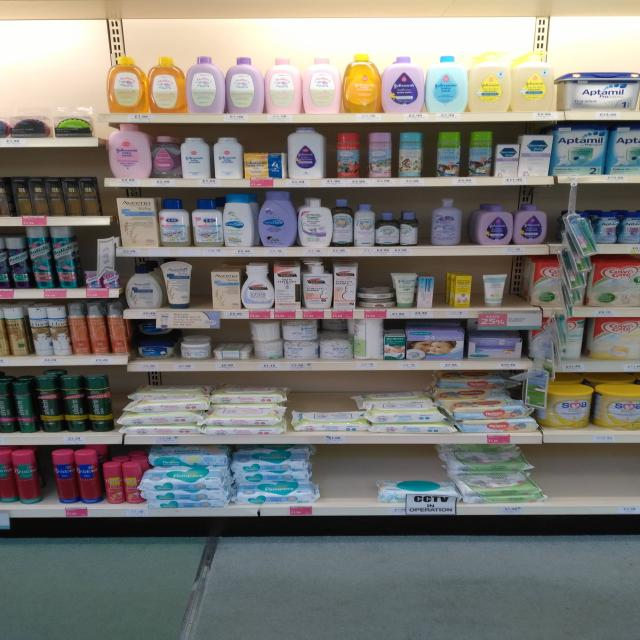unorganised: (335, 131, 427, 180), (437, 130, 493, 177), (439, 377, 513, 400), (433, 203, 465, 247), (251, 321, 282, 362), (352, 321, 383, 357), (132, 319, 174, 342), (210, 393, 286, 405), (319, 320, 353, 341)
